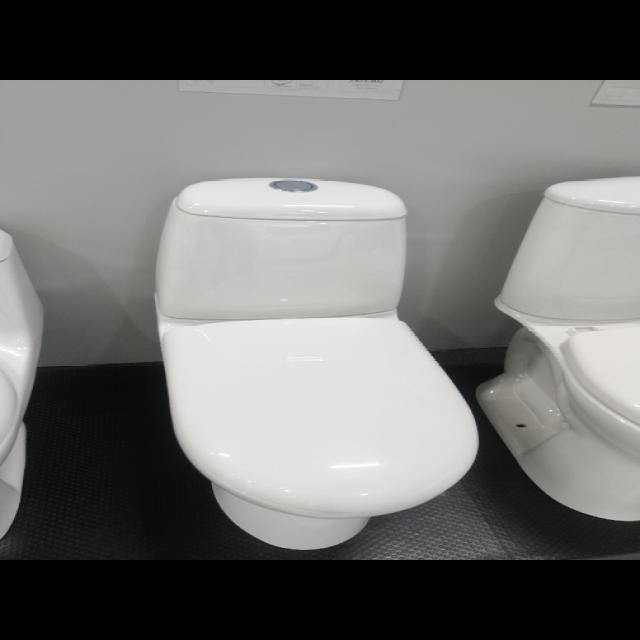toilet: (152, 176, 479, 550), (475, 174, 639, 522)
